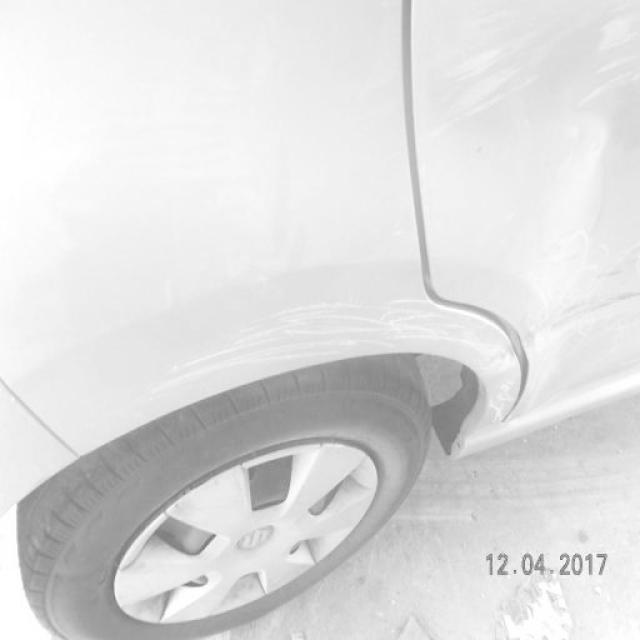car damage: (133, 294, 463, 397), (524, 260, 640, 346), (470, 319, 522, 424)
